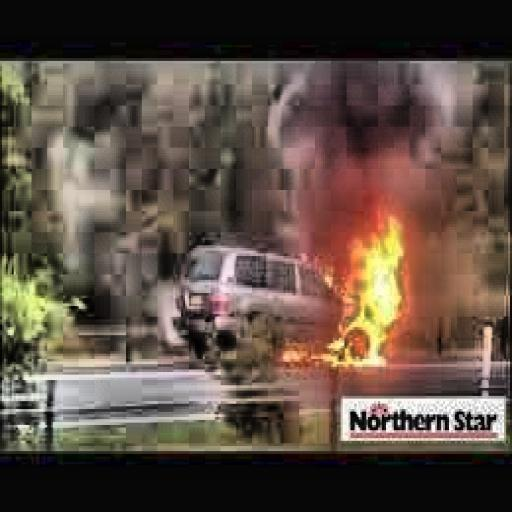fire: (298, 216, 428, 383)
